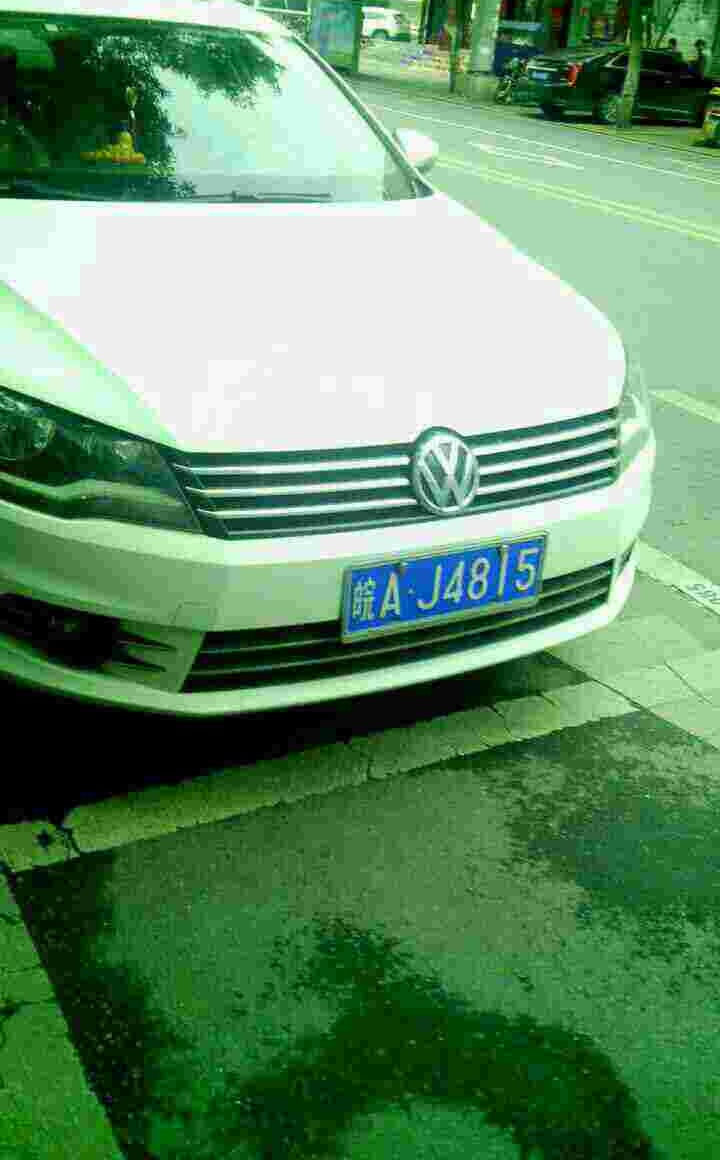plate: (348, 529, 553, 638)
